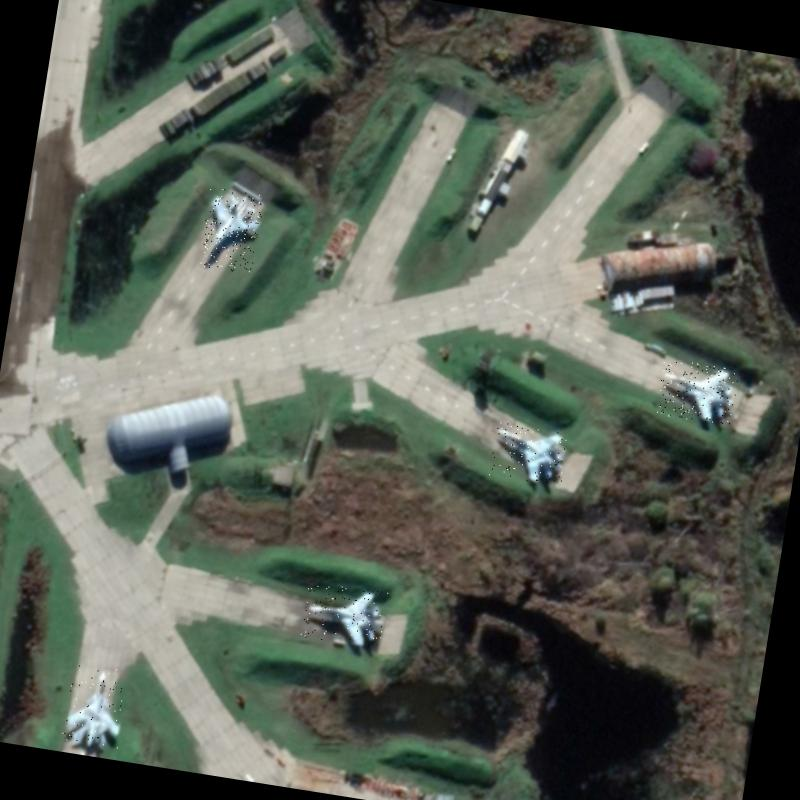A1: (300, 580, 389, 649), (198, 187, 264, 274), (655, 358, 739, 426), (488, 422, 569, 488)
A19: (60, 662, 129, 752)
